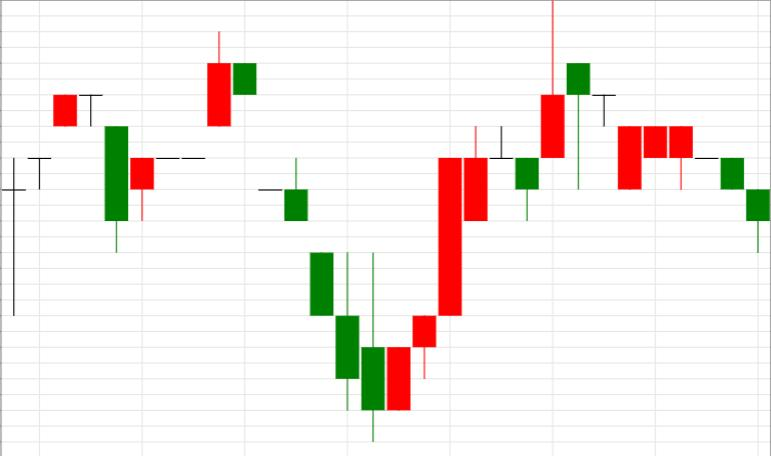three_white_soldiers_rise: (233, 62, 462, 441)
